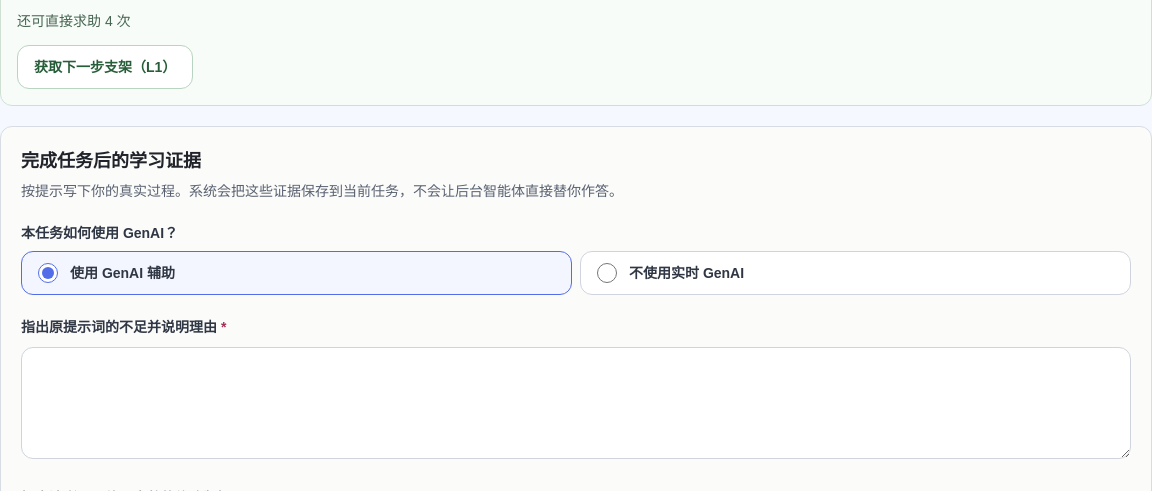
Test: learning page components › retains a failed AI-free choice draft and retries the same explicit action
The width and height of the screenshot is (1152, 491).
(page scrolled)
Click the radio button labelled "不使用实时 GenAI". click: coordinates (607, 273)
box: [597,263,617,283]
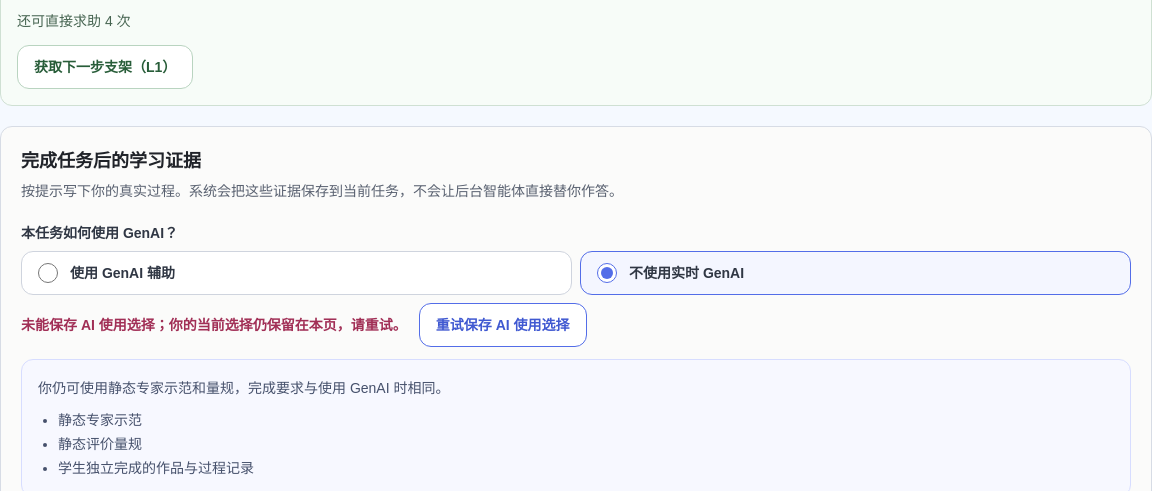
Expected: the radio button labelled "不使用实时 GenAI" is checked, [597,263,617,283]
Expected: the text "未能保存 AI 使用选择；你的当前选择仍保留在本页，请重试。" is shown, [21,313,407,337]
Click the button "重试保存 AI 使用选择". click: coordinates (503, 325)
box: [419,303,587,347]
(page scrolled)
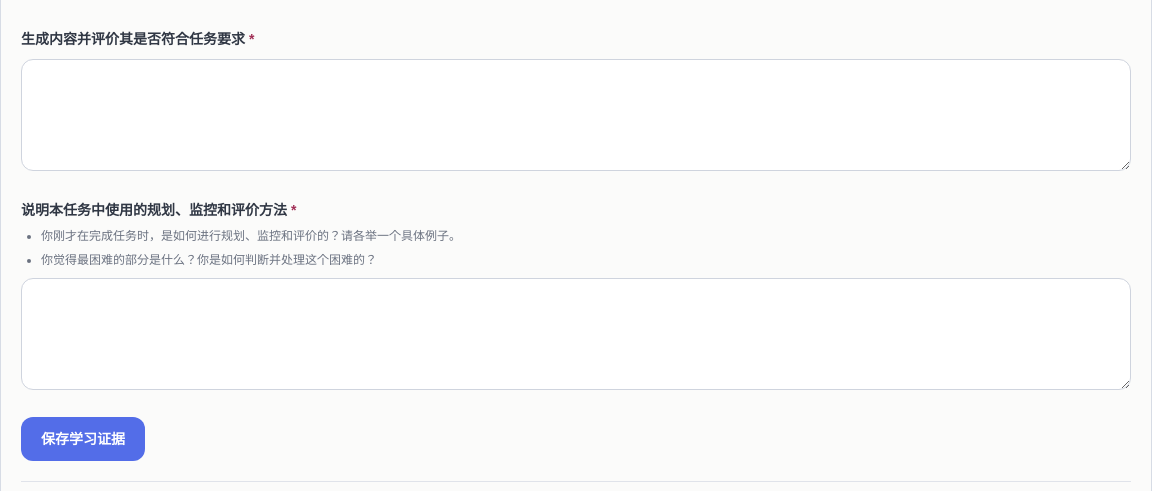
Expected: the button "保存学习证据" is enabled, [21,417,145,461]
